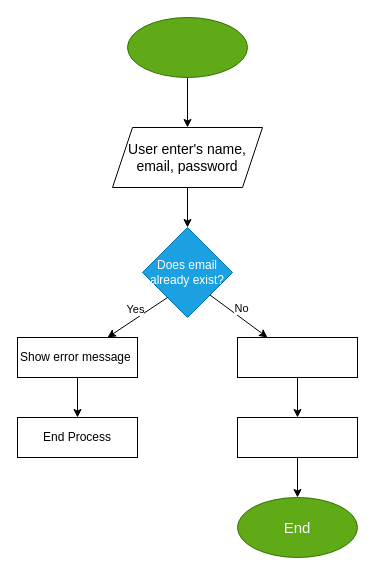
Image size: 375x575. Some labels were removed from this diagram. Each missing label, with the centre of its shape:
Hash password & save user: point (297, 357)
Send success message: point (297, 437)
Start: point (187, 47)
